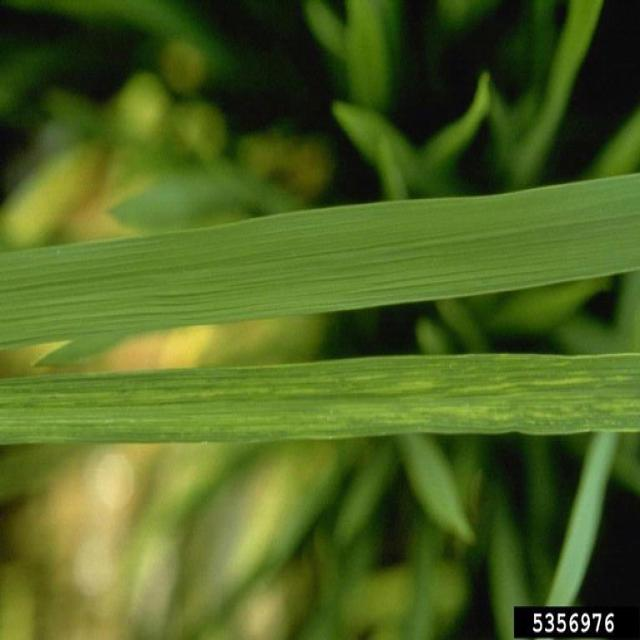Bacterial leaf blight: (2, 359, 639, 445)
